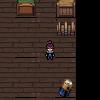Hide: (54, 20, 76, 37), (15, 0, 37, 17)
Obstacle: (55, 0, 76, 18)
Victim: (44, 39, 56, 61)
Win: (55, 77, 76, 97)
